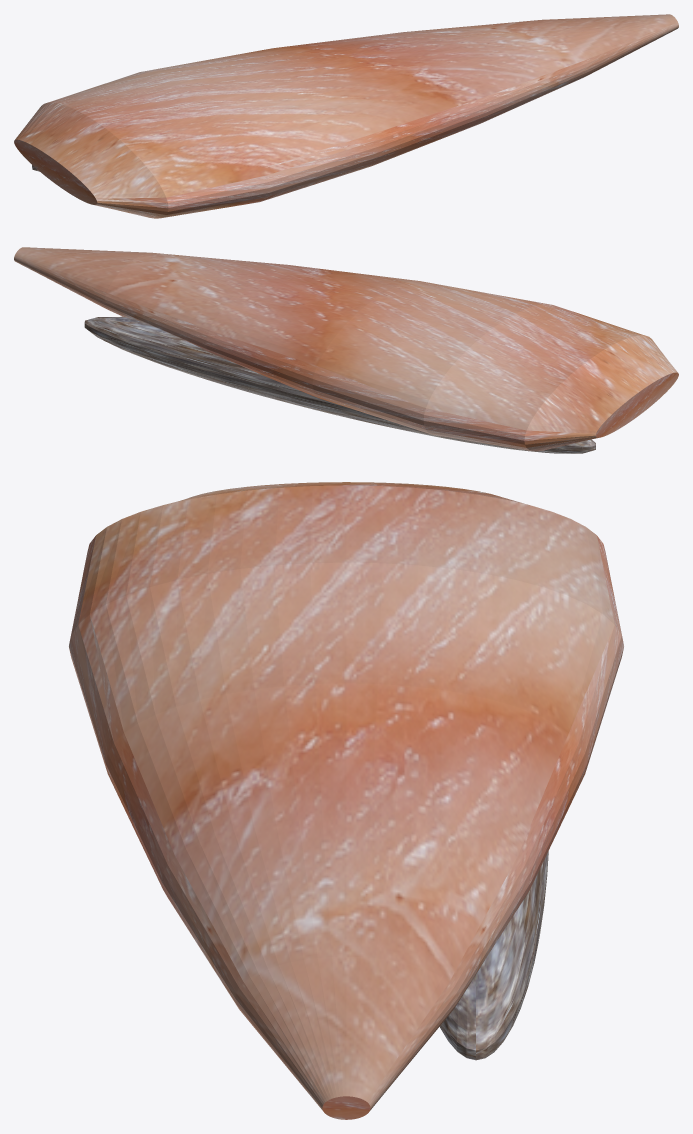
Rendered from fish.obj.
The picture shows the model from 3 angles, top to bottom: view 1: azimuth 30°, elevation 25°; view 2: azimuth 150°, elevation 25°; view 3: azimuth 270°, elevation 25°; orthographic projection. The views are drawn at different scales.
Visible parts, largest first — view 1: fillet; view 2: fillet, skin; view 3: fillet, skin.
Part boxes in pixels (x1=…): fillet: x1=14, y1=14, x2=678, y2=218; fillet: x1=14, y1=247, x2=678, y2=451; skin: x1=84, y1=316, x2=595, y2=453; fillet: x1=69, y1=482, x2=623, y2=1119; skin: x1=439, y1=851, x2=548, y2=1060.
Bounding box in the file's own units: 116 × 15.82 × 45.19.
2 materials, 2 textured.
